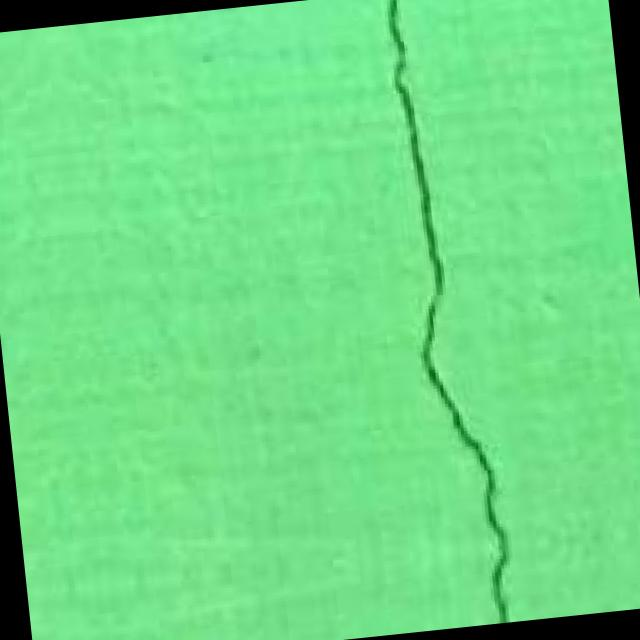crack: (328, 0, 544, 631)
